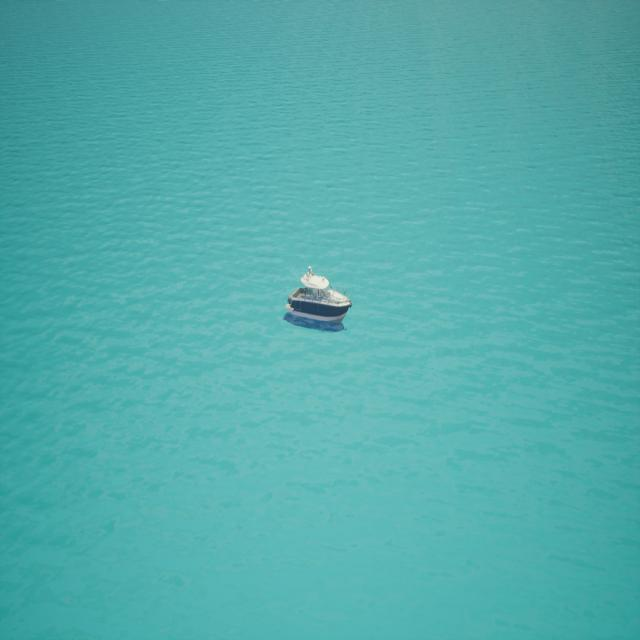ship: (284, 264, 352, 330)
